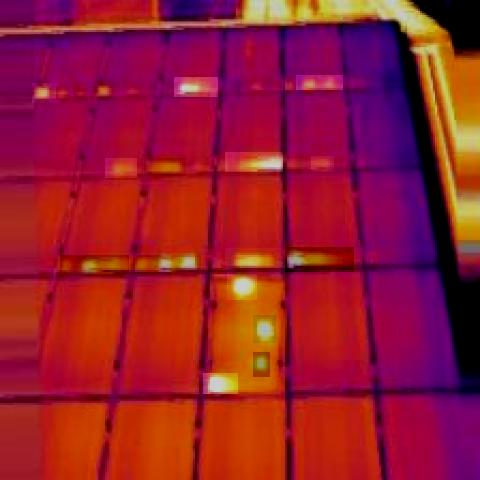fault: (285, 247, 354, 272), (60, 255, 129, 272), (225, 152, 283, 172), (225, 248, 281, 268), (133, 255, 201, 270), (174, 77, 218, 97), (227, 272, 257, 300), (144, 158, 186, 176), (203, 373, 238, 394), (296, 75, 343, 90), (253, 315, 276, 343), (105, 158, 137, 178), (32, 83, 58, 103), (253, 352, 270, 377), (311, 156, 334, 172), (92, 82, 114, 98), (73, 88, 88, 101), (56, 86, 66, 100)
